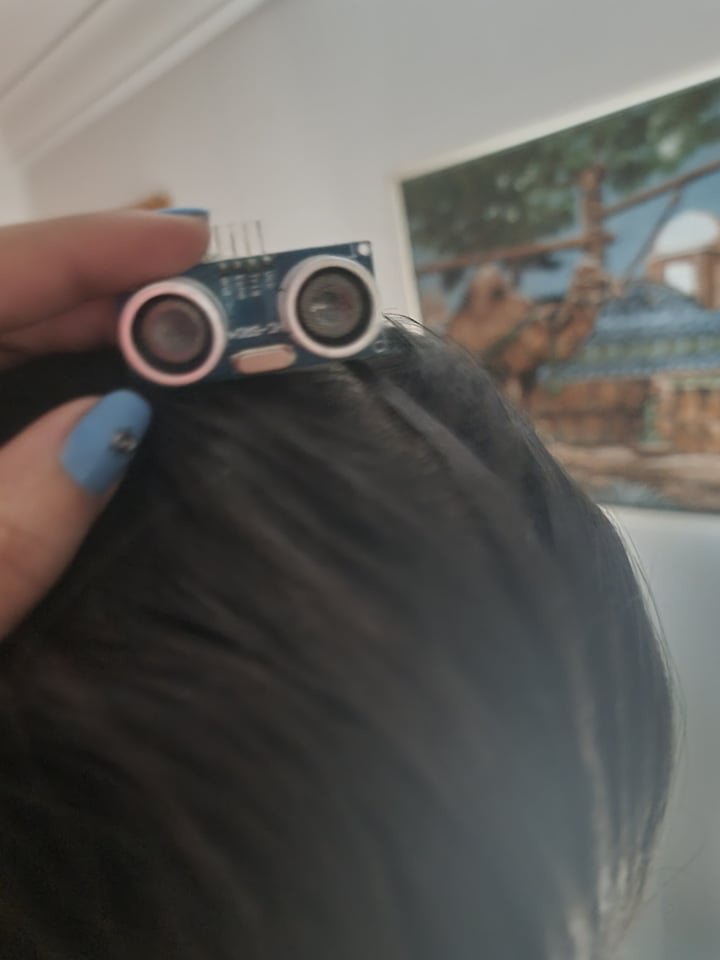SENSOR: (106, 244, 382, 393)
